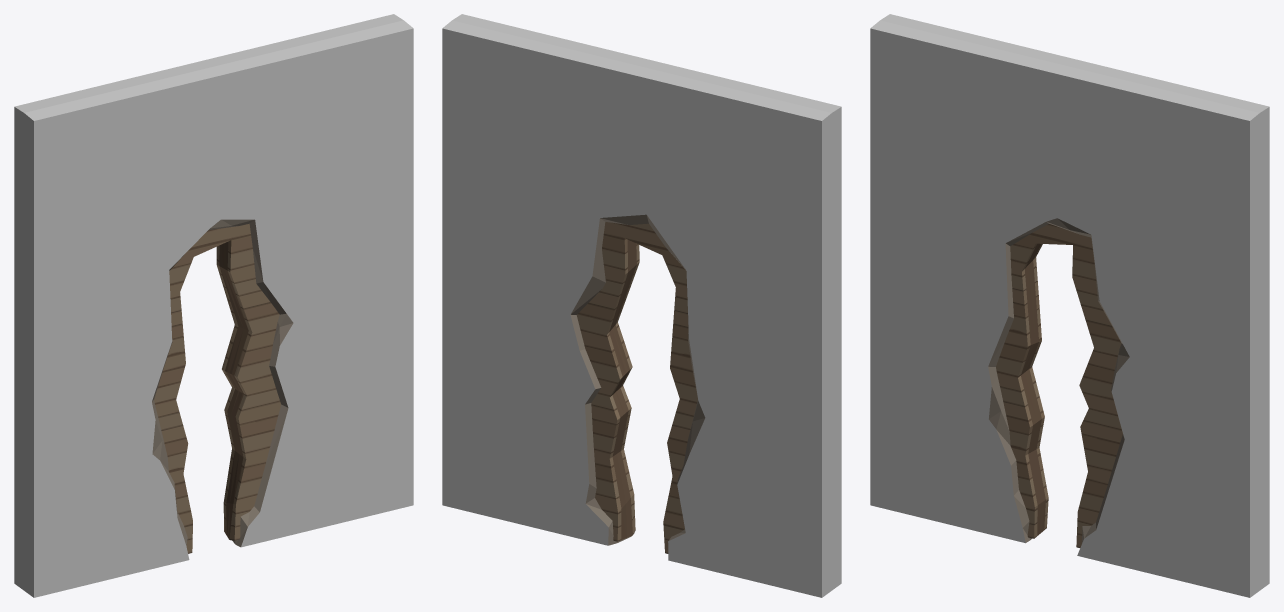
Rendered from SM_Bld_Wall_Crawl_Space_01.fbx.
3 views of the same model, side by side, from view 1: azimuth 30°, elevation 25°; view 2: azimuth 150°, elevation 25°; view 3: azimuth 330°, elevation 25° (orthographic).
Visible parts, largest first — view 1: SM_Bld_Wall_Crawl_Space_01; view 2: SM_Bld_Wall_Crawl_Space_01; view 3: SM_Bld_Wall_Crawl_Space_01.
Part boxes in pixels (x1,y1,x2,y2): SM_Bld_Wall_Crawl_Space_01: (14, 14, 413, 597); SM_Bld_Wall_Crawl_Space_01: (442, 14, 841, 597); SM_Bld_Wall_Crawl_Space_01: (870, 14, 1269, 597).
Bounding box in the file's own units: 250 × 301 × 22.5.
